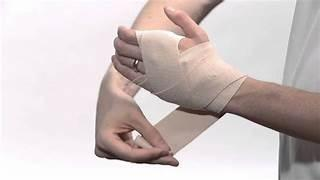Bandage: (134, 30, 245, 152), (136, 30, 245, 112), (155, 107, 218, 153)
